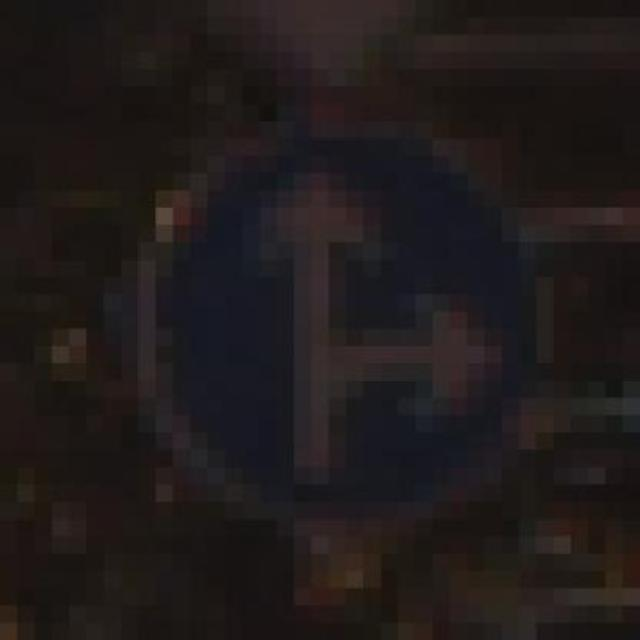Go Straight or Turn Right: (86, 86, 554, 537)
